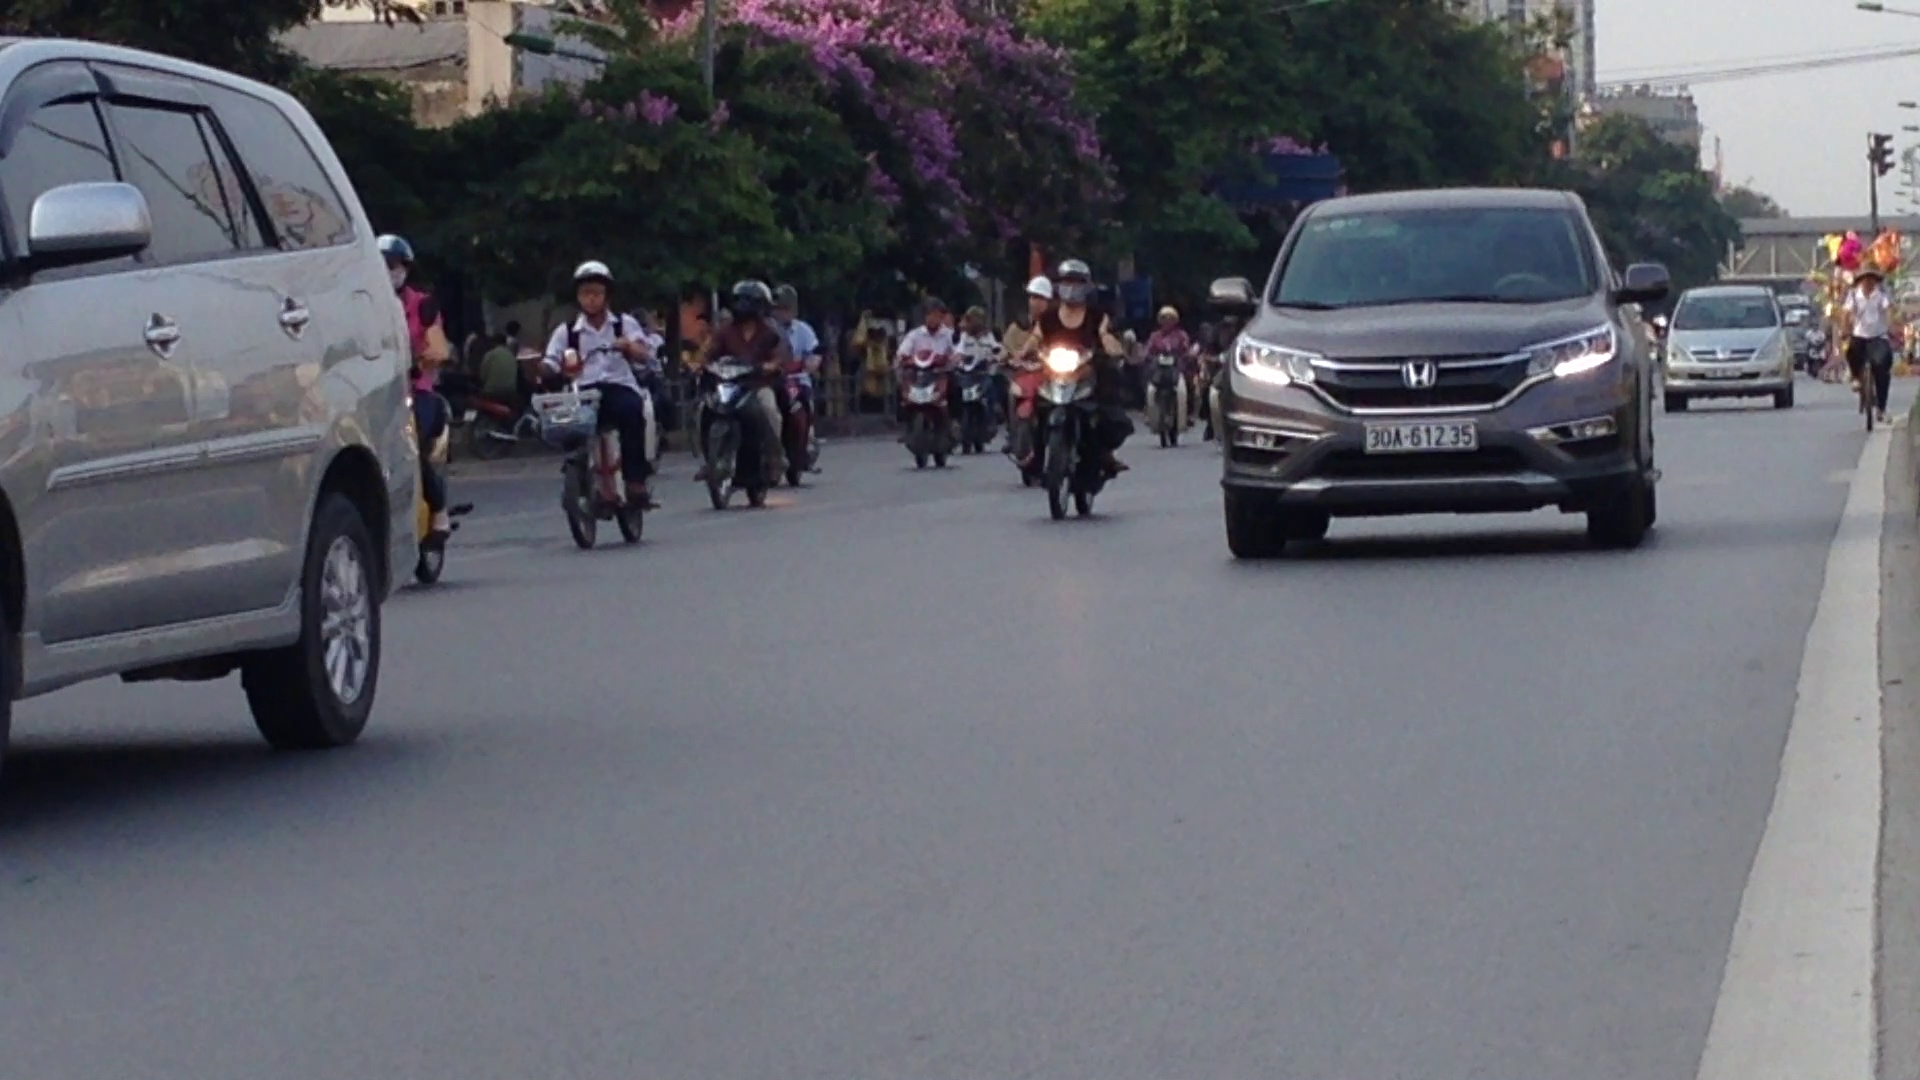vehicle-plate: (1361, 417, 1482, 455)
